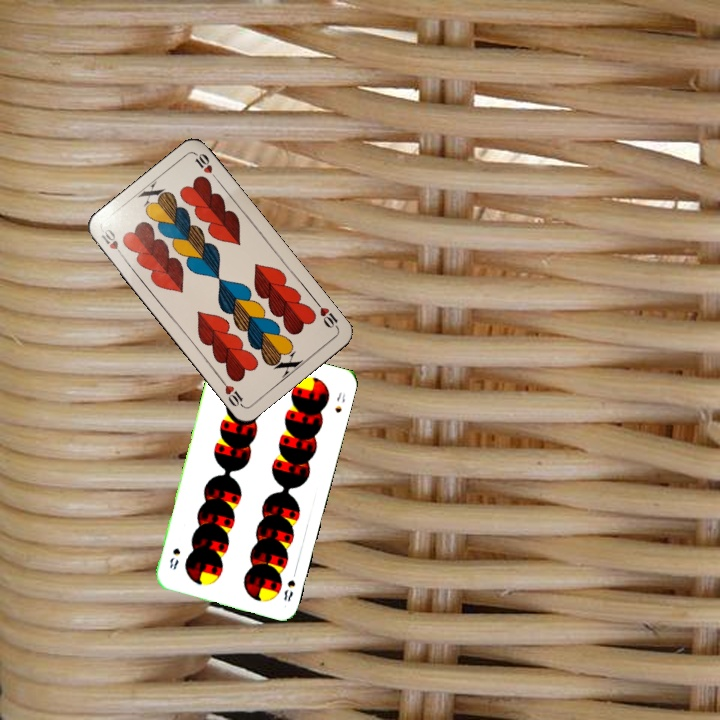H10: (97, 225, 127, 261), (311, 297, 341, 331)
S8: (280, 576, 298, 604)
